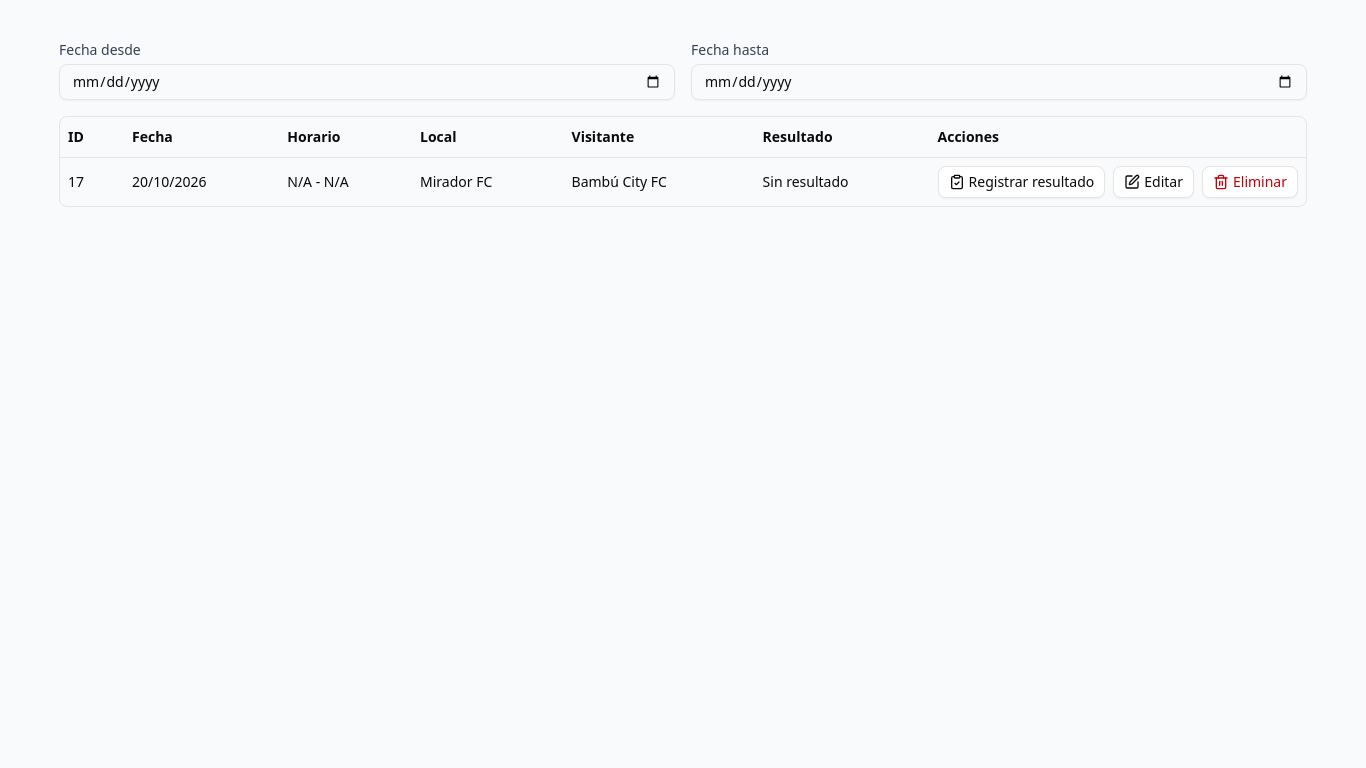
Test: shows the validation details from the API without changing the result
Later steps or results of the test are not shown.
Click the button "Registrar resultado" at (1021, 182), box top-left (938, 166), bottom-right (1105, 198)
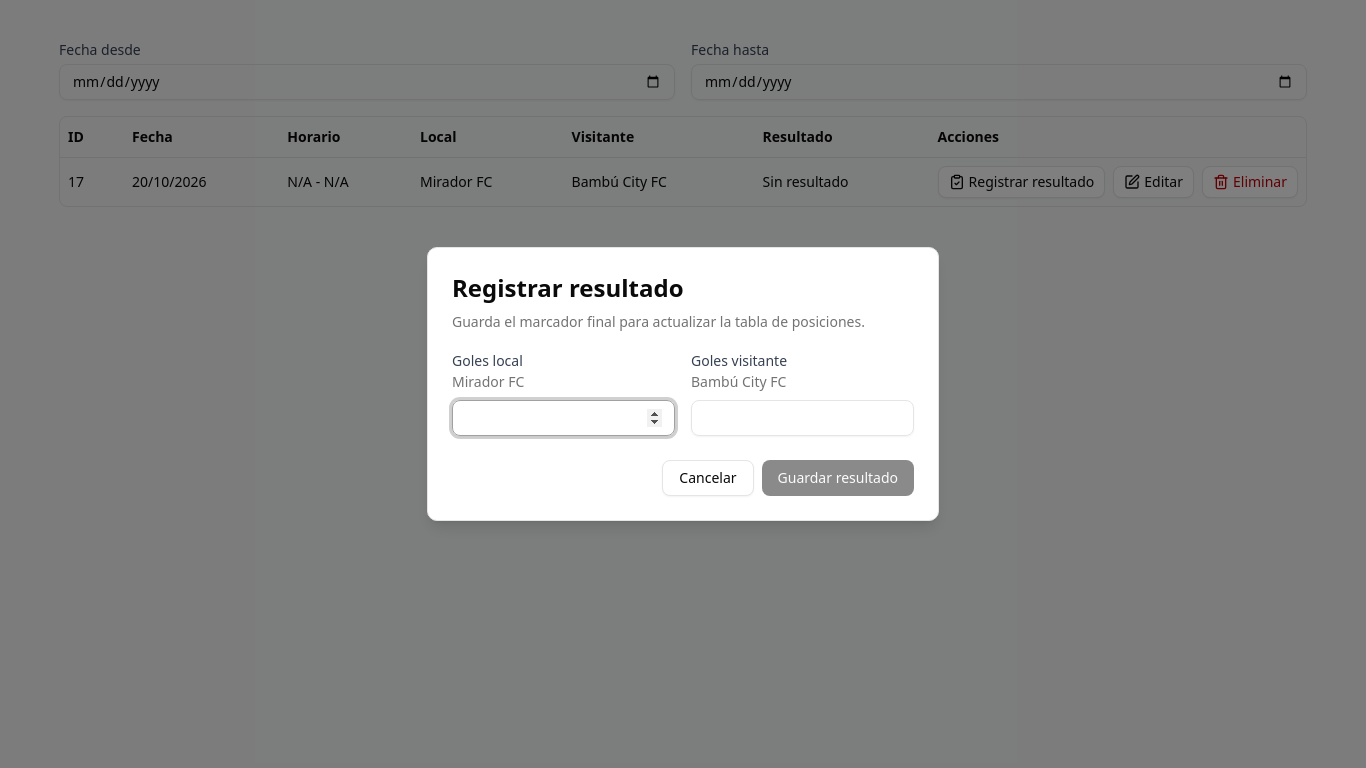
Now the text "Mirador FC" is shown, box top-left (452, 372), bottom-right (524, 391)
Now the text "Bambú City FC" is shown, box top-left (691, 372), bottom-right (786, 391)
Now the number field labelled "Goles local" is not empty
Type "2" into the number field labelled "Goles local" at (564, 418), box top-left (452, 400), bottom-right (675, 436)
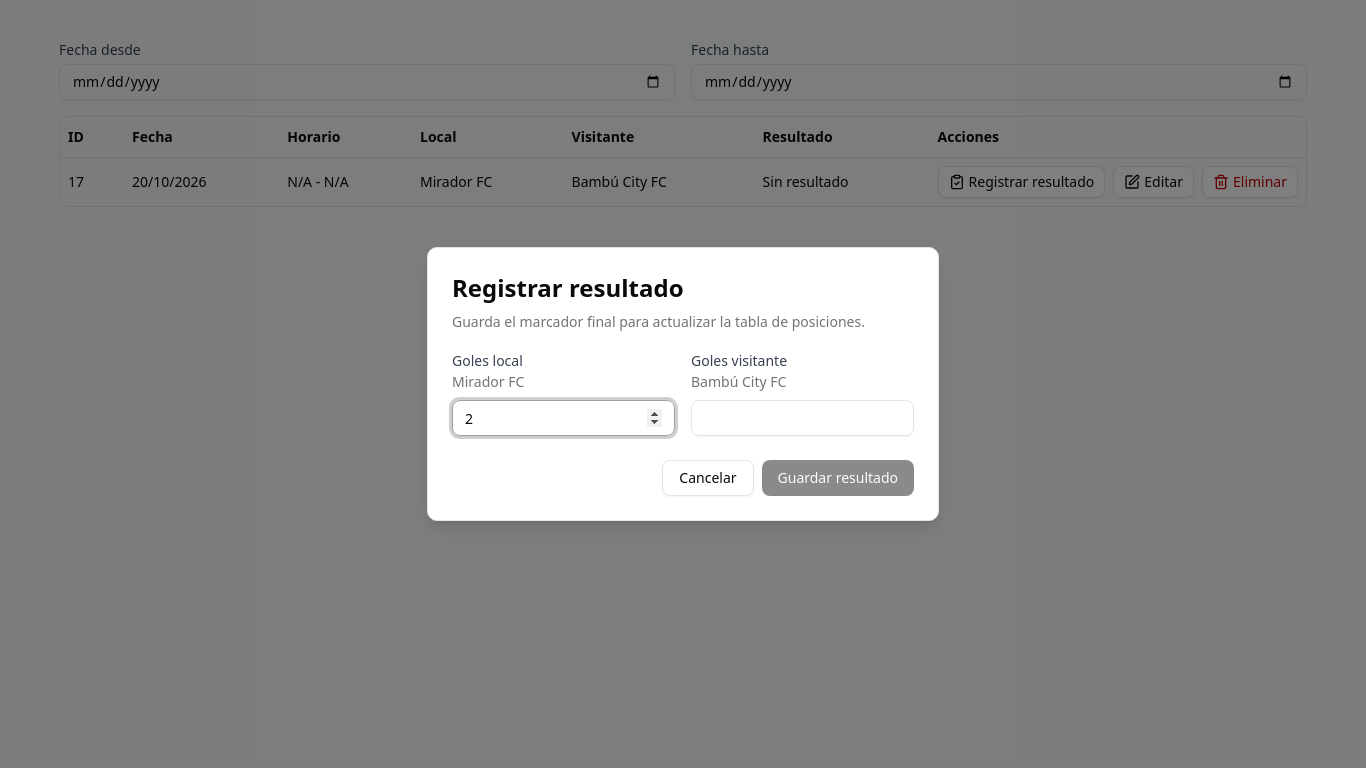
Type "0" into the number field labelled "Goles visitante" at (802, 418), box top-left (691, 400), bottom-right (914, 436)
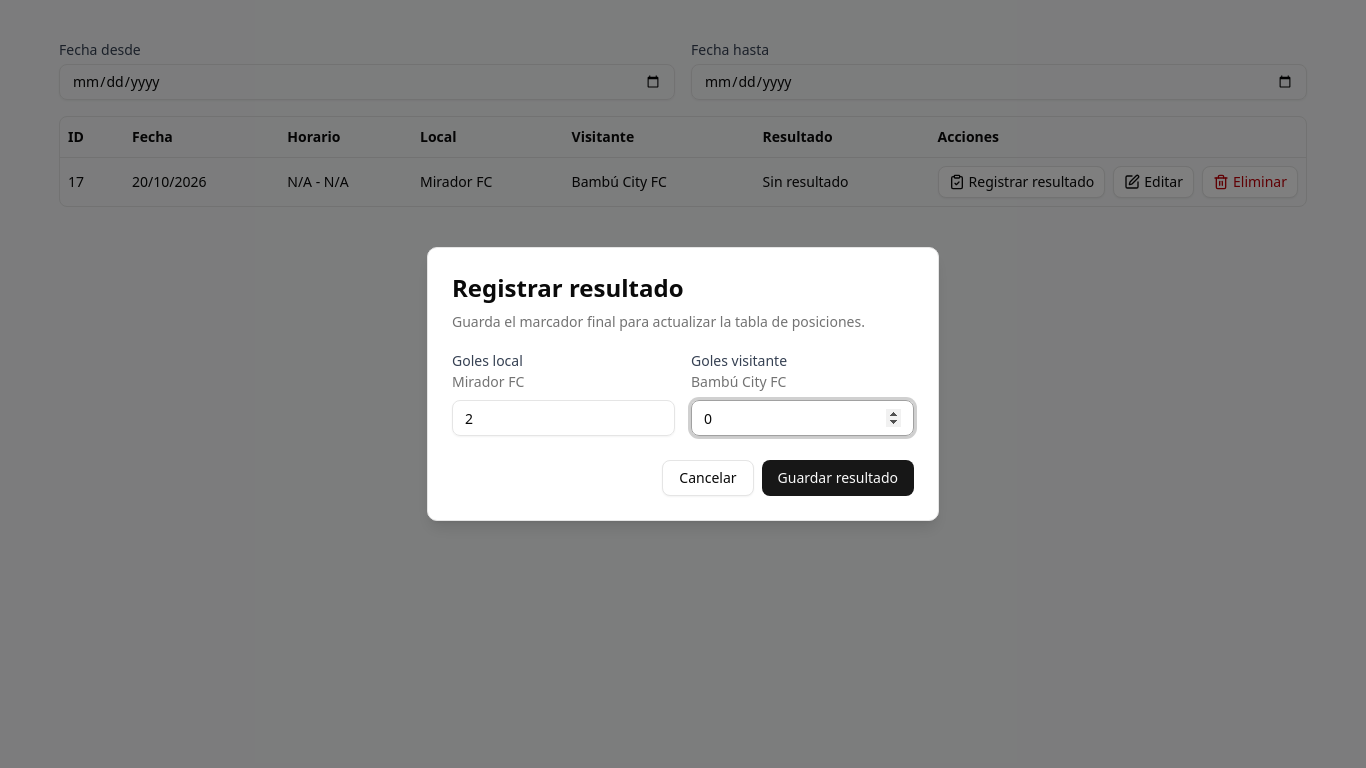
Click the button "Guardar resultado" at (838, 478), box top-left (762, 460), bottom-right (914, 496)
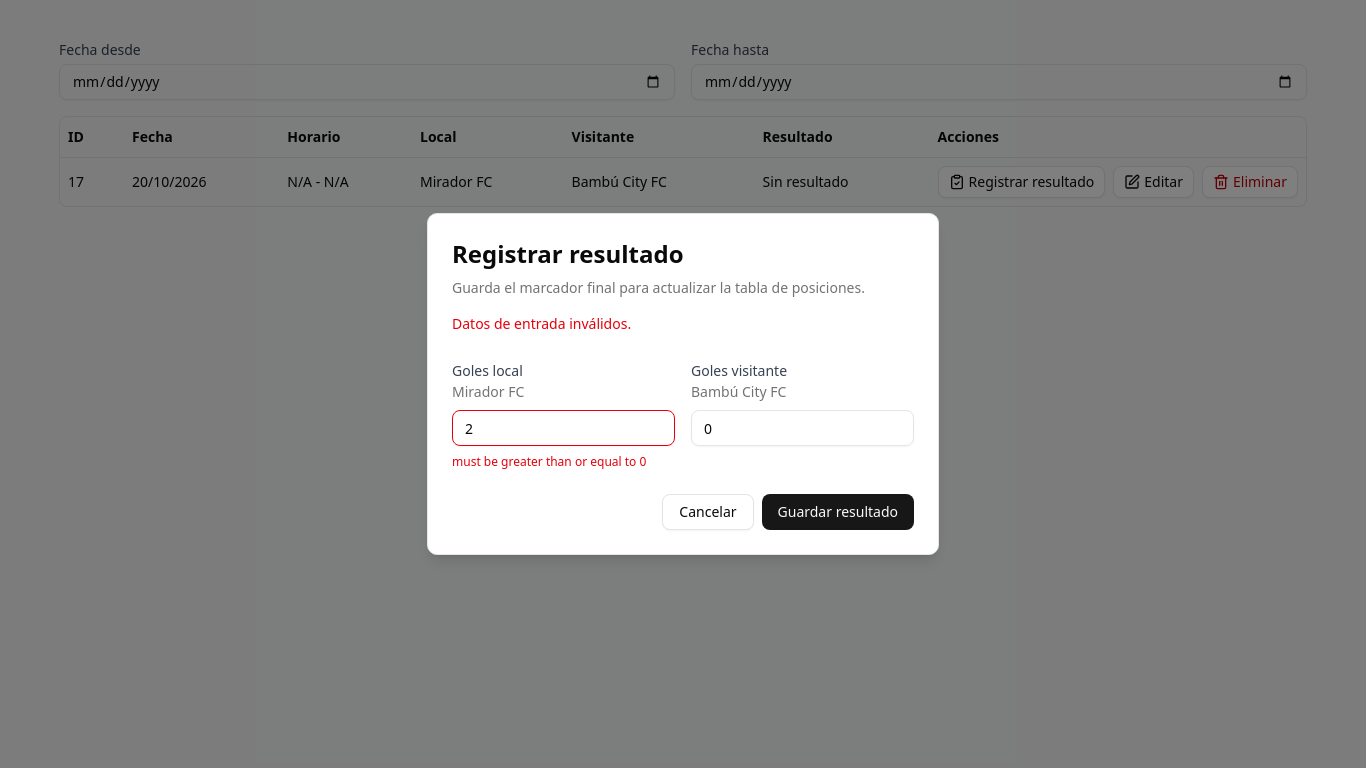
Now the button "Guardar resultado" is enabled, box top-left (762, 494), bottom-right (914, 530)
Now the message reads "Datos de entrada inválidos.", box top-left (452, 314), bottom-right (631, 333)
